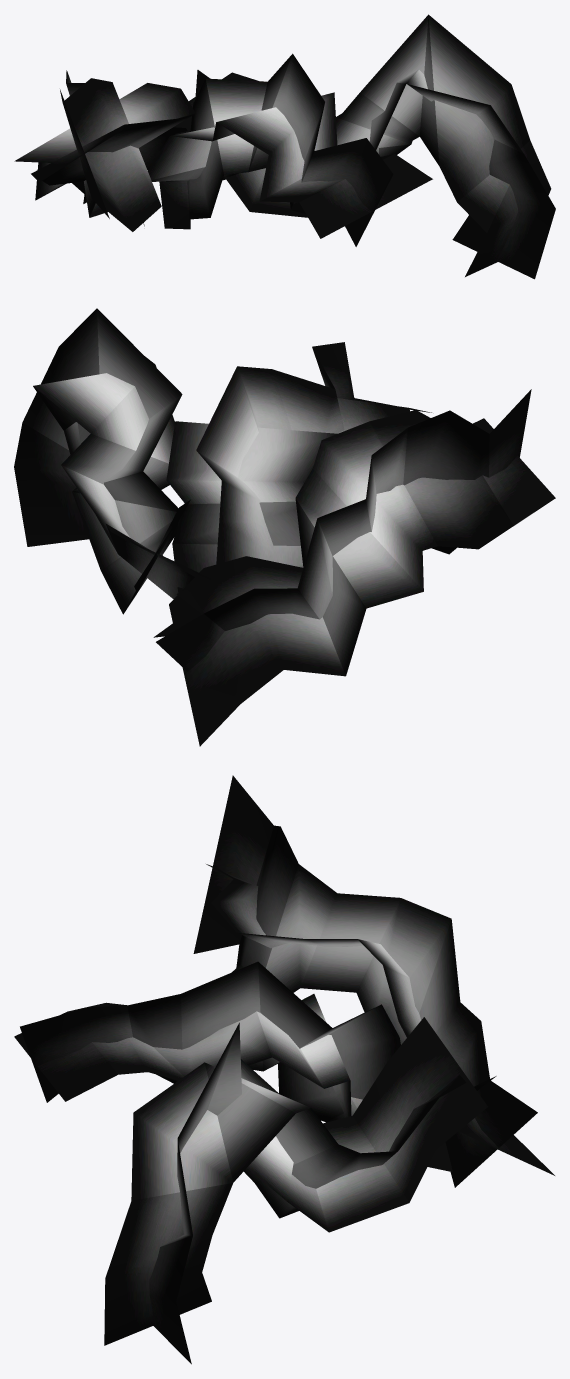
The model's file is vfx_kurp_1104.dae.
3 views of the same model, one above another, from view 1: azimuth 30°, elevation 25°; view 2: azimuth 150°, elevation 25°; view 3: azimuth 270°, elevation 25° (orthographic). The views are drawn at different scales.
Visible parts, largest first — view 1: vfx_kurp_1104; view 2: vfx_kurp_1104; view 3: vfx_kurp_1104.
Part boxes in pixels (left/top/right/bottom): vfx_kurp_1104: left=14, top=14, right=555, bottom=279; vfx_kurp_1104: left=14, top=308, right=555, bottom=746; vfx_kurp_1104: left=14, top=775, right=554, bottom=1364.
Size of the model in its own units: 12.04 by 9.37 by 6.08.
Materials: 1 (1 with a texture image).
